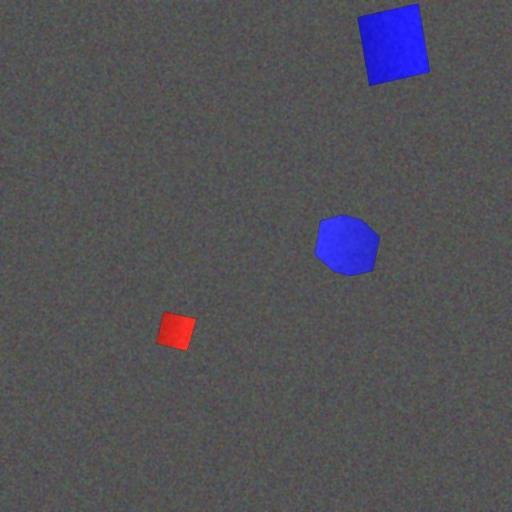BLUE_SQUARE: (357, 3, 431, 87)
RED_SQUARE: (155, 310, 198, 352)
